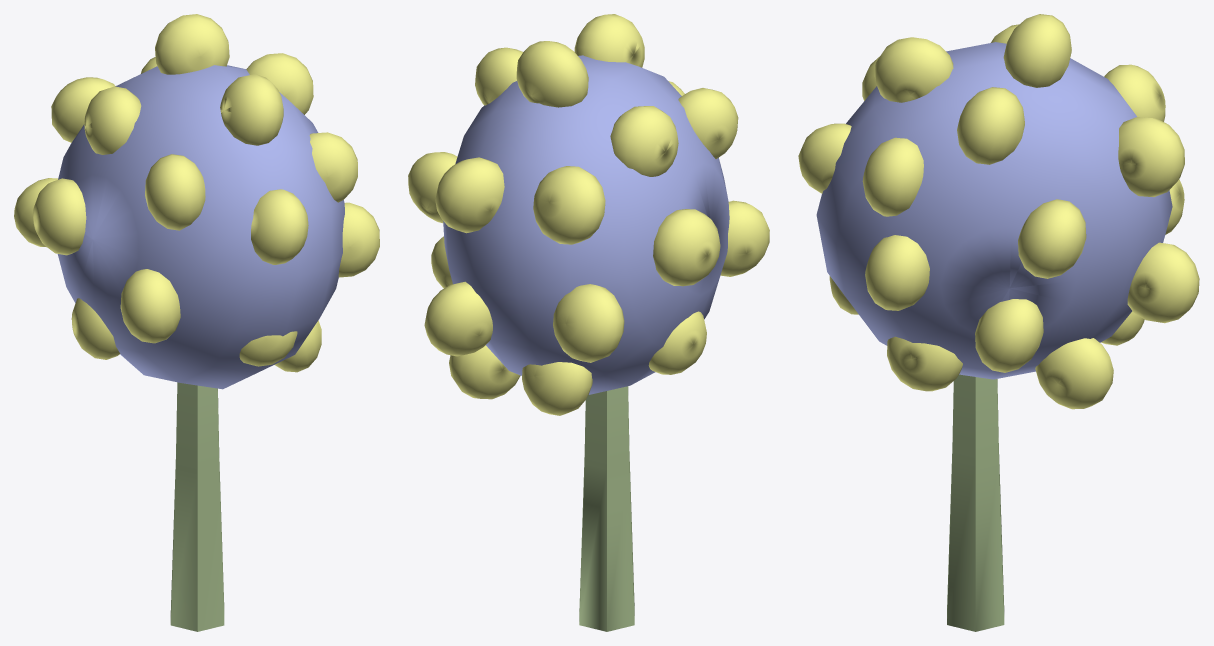
File: alientree1.fbx
3 renders of one model, left to right at view 1: azimuth 30°, elevation 25°; view 2: azimuth 150°, elevation 25°; view 3: azimuth 270°, elevation 25°, orthographic. The views are drawn at different scales.
Visible parts, largest first — view 1: ailientree2.001; view 2: ailientree2.001; view 3: ailientree2.001.
Boxes of the visible parts, x1=… form: ailientree2.001: x1=14, y1=14, x2=379, y2=631; ailientree2.001: x1=408, y1=14, x2=769, y2=631; ailientree2.001: x1=798, y1=14, x2=1199, y2=631.
Bounding box in the file's own units: 1167 × 2235 × 1327.
